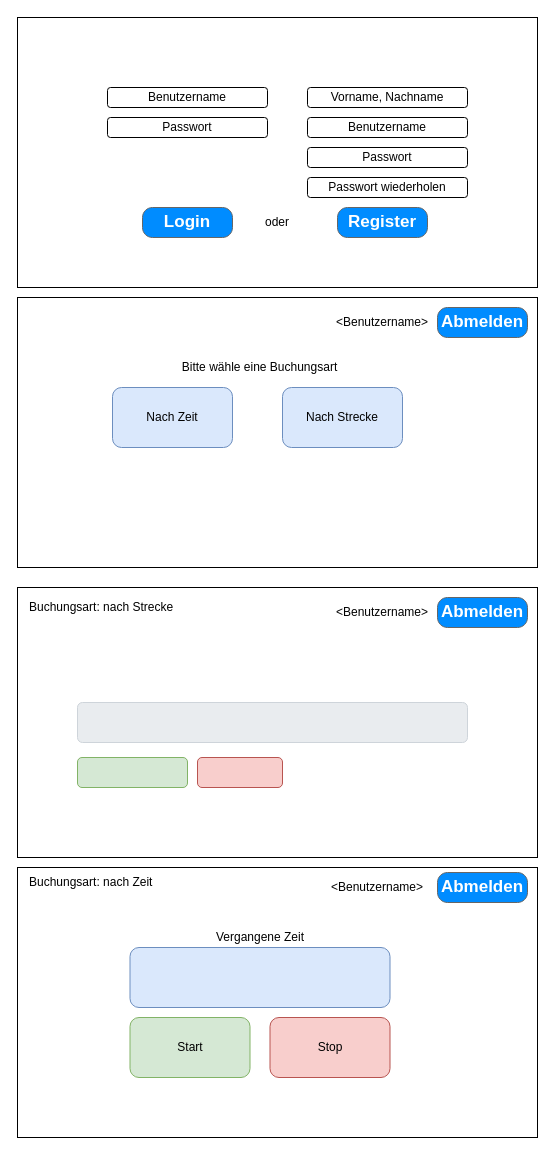
The diagram is 555 pixels wide and 1155 high, and some of its shapes have lost their labels. The shapes that lost their labels are listed below. From the top down, each one's centre as x and y in pixels, then its label:
point 272,722: Gewünschte Fahrtstrecke
point 132,772: Buchen
point 239,772: Abbrechen
point 259,977: 10 Minuten
